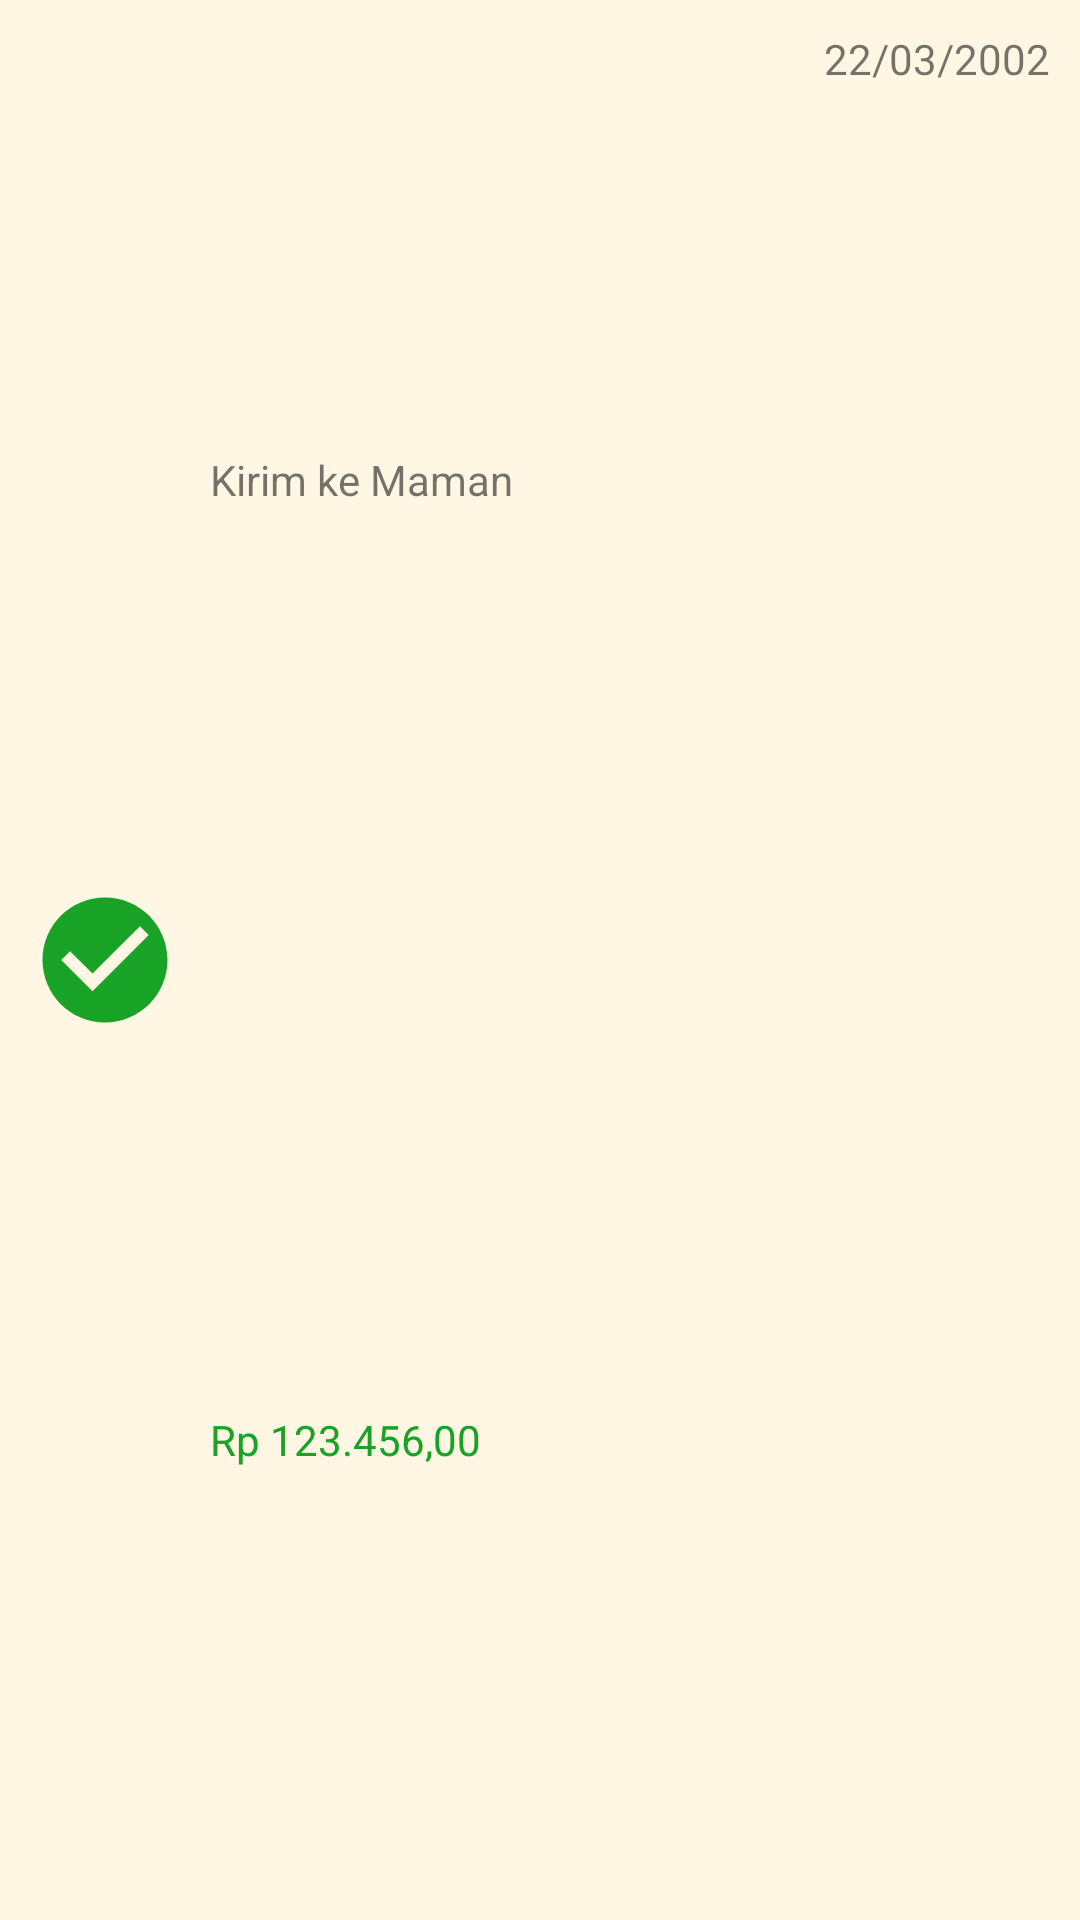

Screen size 1080 × 1920. Icon name, then its center in pixels as (x=x, y=y):
check circle: (x=105, y=960)
